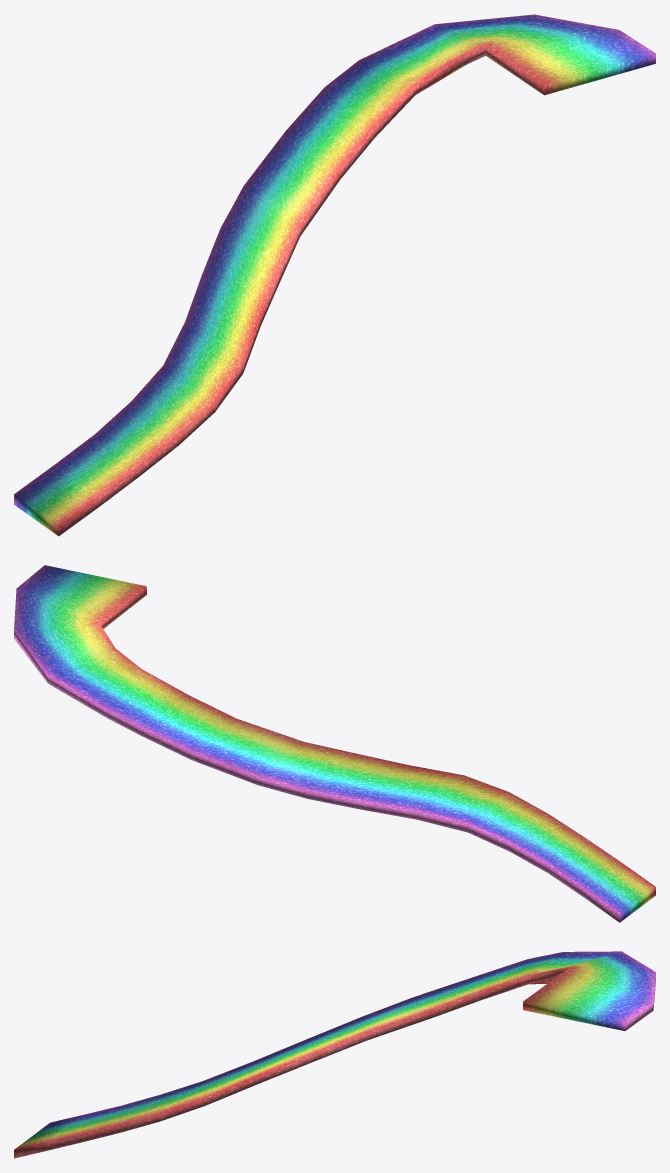
File: common_obj_167.fbx
The picture shows the model from 3 angles, top to bottom: view 1: azimuth 30°, elevation 25°; view 2: azimuth 150°, elevation 25°; view 3: azimuth 330°, elevation 25°; orthographic projection. The views are drawn at different scales.
Visible parts, largest first — view 1: common_obj_167; view 2: common_obj_167; view 3: common_obj_167.
Boxes of the visible parts, left/top/right/bottom form: common_obj_167: left=14, top=14, right=655, bottom=536; common_obj_167: left=14, top=565, right=655, bottom=922; common_obj_167: left=14, top=951, right=655, bottom=1158.
Size of the model in its own units: 49.88 by 19.89 by 22.84.
